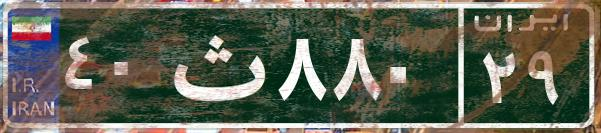0: (385, 28, 445, 110), (110, 28, 158, 105)
2: (475, 38, 525, 113)
4: (57, 26, 110, 107)
8: (273, 28, 330, 110), (330, 28, 385, 110)
9: (525, 38, 570, 115)
ث: (158, 15, 273, 115)
